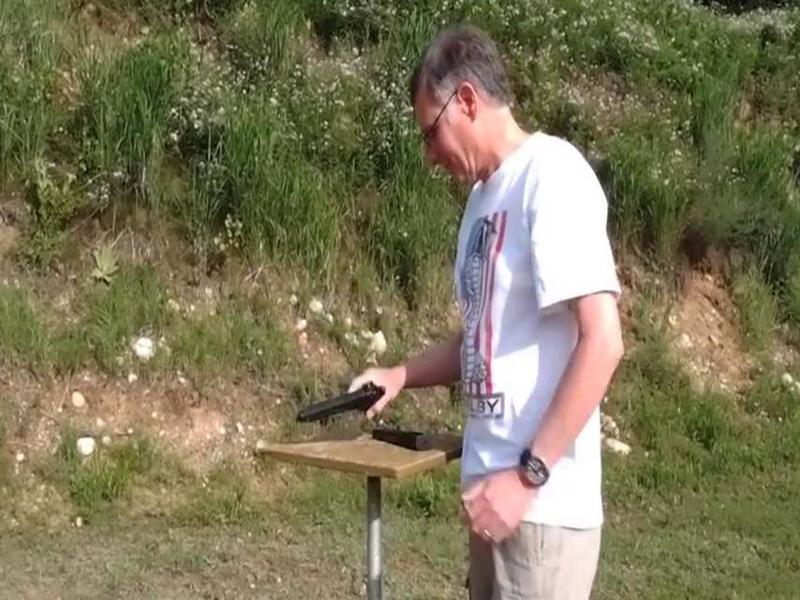Pistola: (277, 366, 403, 448)
